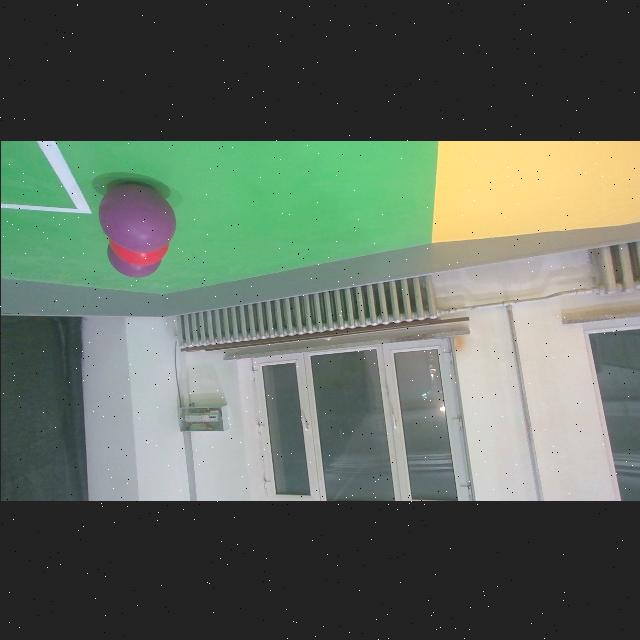P: (97, 181, 175, 251)
R: (109, 239, 168, 265)
